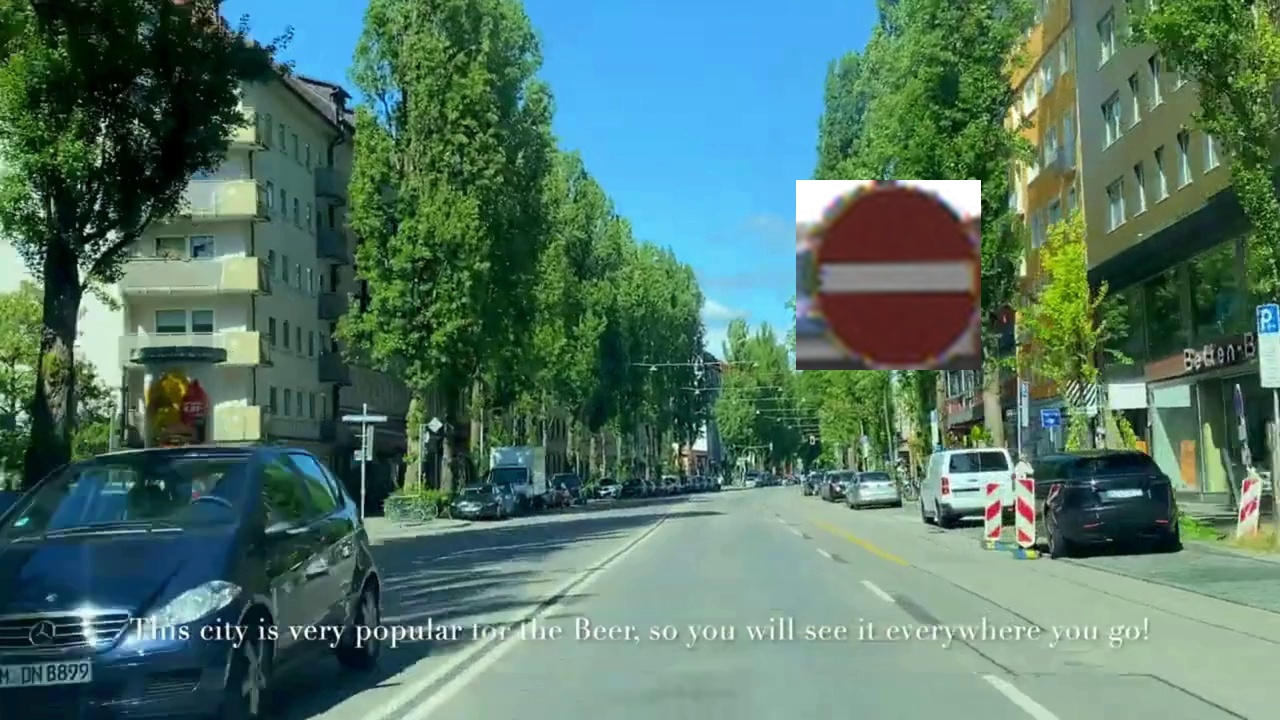No entry: (796, 180, 981, 370)
